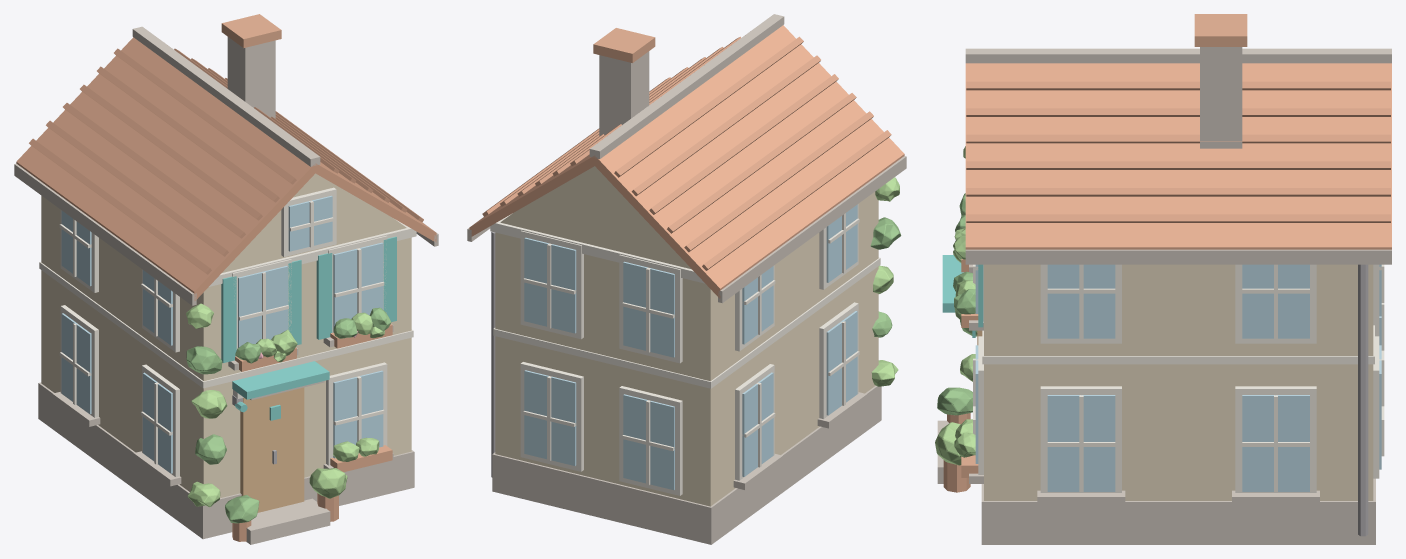
Rendered from Building_Townhouse_E.fbx.
3 renders of one model, left to right at view 1: azimuth 30°, elevation 25°; view 2: azimuth 150°, elevation 25°; view 3: azimuth 270°, elevation 25°, orthographic. The views are drawn at different scales.
Parts seen in each view (by area): view 1: Building_Townhouse_E, Building_Townhouse_E_Veg; view 2: Building_Townhouse_E, Building_Townhouse_E_Veg; view 3: Building_Townhouse_E, Building_Townhouse_E_Veg.
Part boxes in pixels (x1=…): Building_Townhouse_E: x1=14, y1=14, x2=438, y2=544; Building_Townhouse_E_Veg: x1=186, y1=303, x2=392, y2=541; Building_Townhouse_E: x1=467, y1=14, x2=906, y2=544; Building_Townhouse_E_Veg: x1=870, y1=177, x2=901, y2=386; Building_Townhouse_E: x1=937, y1=14, x2=1391, y2=544; Building_Townhouse_E_Veg: x1=935, y1=146, x2=978, y2=492.
Bounding box in the file's own units: 4.03 × 6.3 × 5.4.
